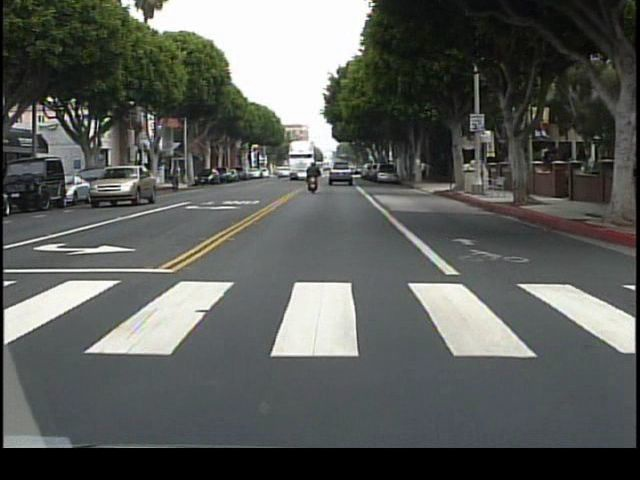person: (305, 156, 323, 197), (163, 163, 182, 190), (424, 159, 433, 187), (422, 160, 427, 183)
